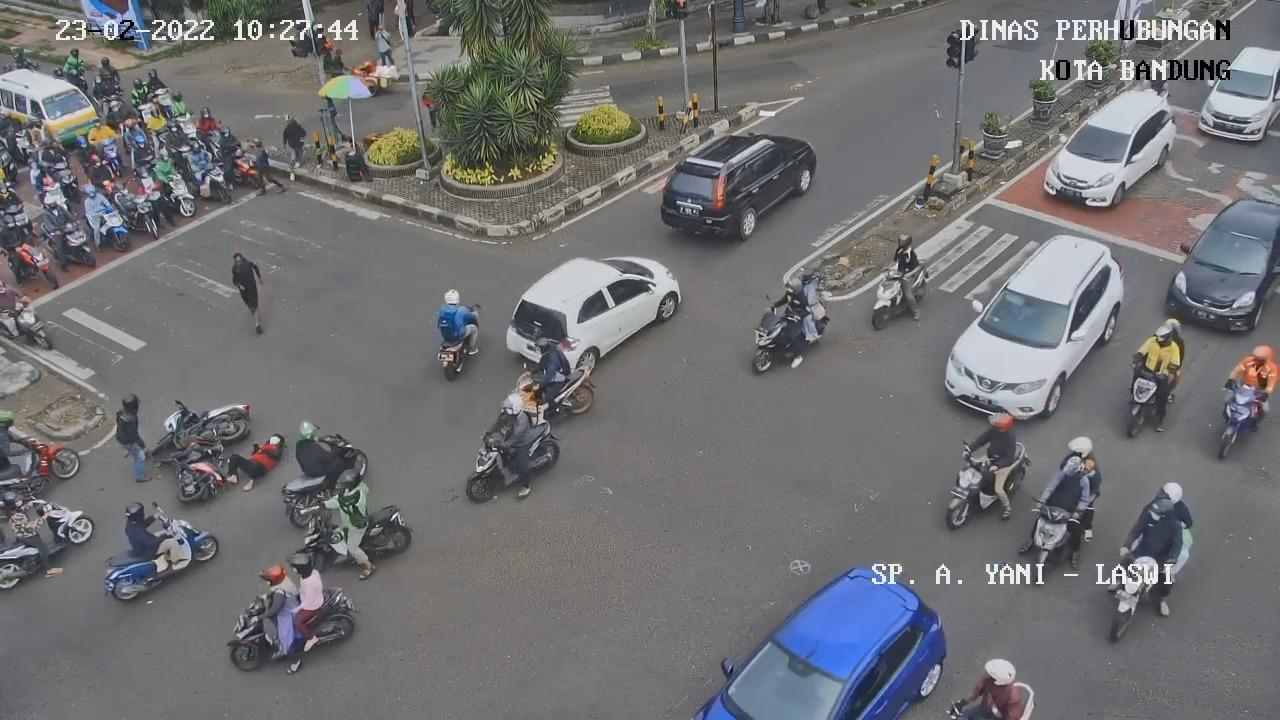accident: (226, 432, 285, 492)
